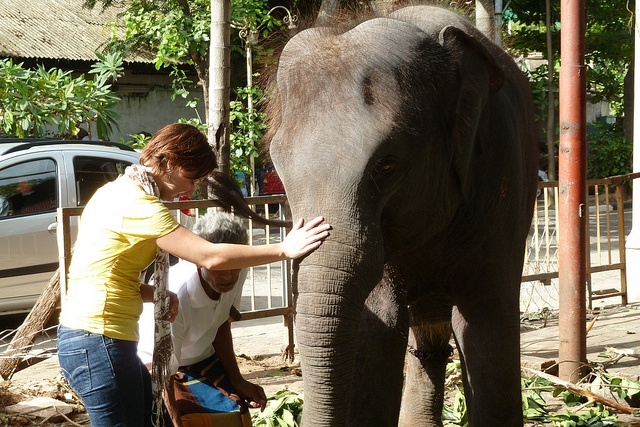elephant: (268, 5, 540, 427)
